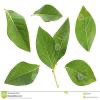Blueberry leaf: (4, 8, 33, 55), (75, 3, 98, 56), (35, 20, 56, 70), (63, 58, 98, 87), (4, 61, 42, 87), (53, 14, 72, 62), (32, 3, 64, 24)
